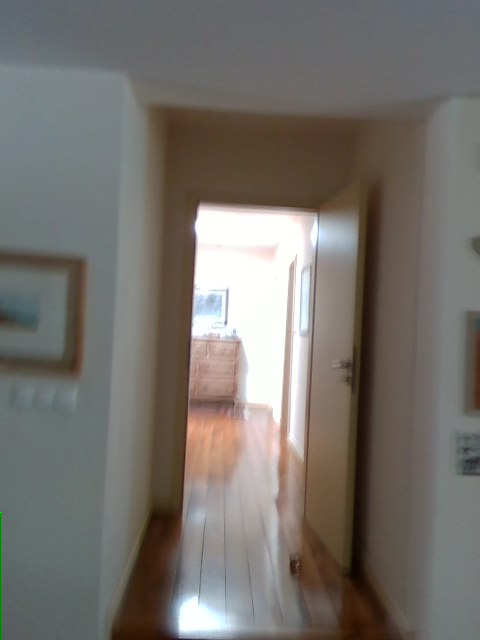open: (169, 173, 366, 567)
